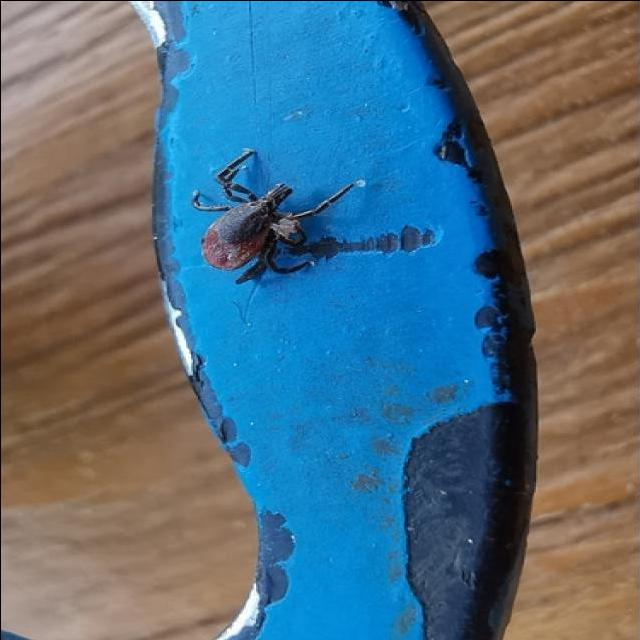Ixodes Ricinus-F: (193, 147, 367, 284)
